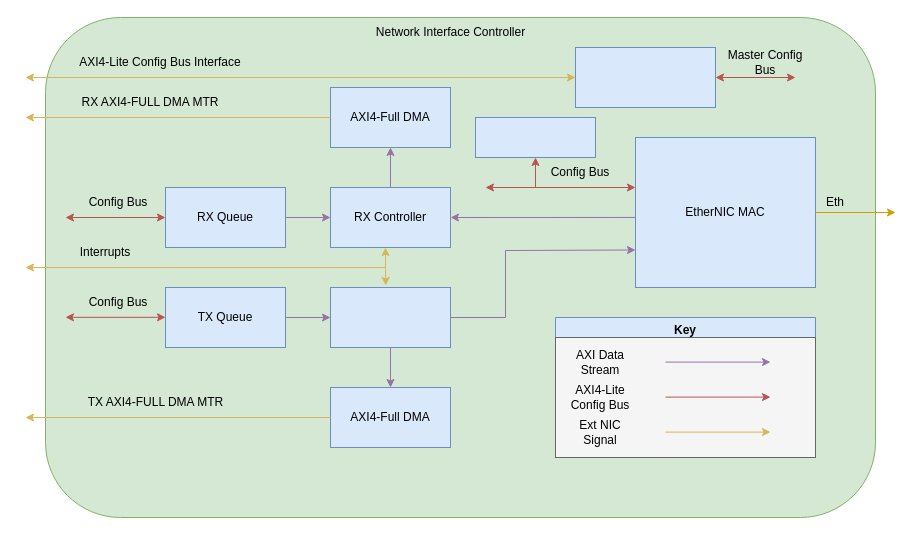
The diagram is 921 pixels wide and 535 high, and some of its shapes have lost their labels. Each missing label, with the centre of its shape:
"AXI4-Lite Config Bus address routing" goes at point 645,77.
"NIC Config Reg File" goes at point 535,137.
"TX Controller" goes at point 390,317.
